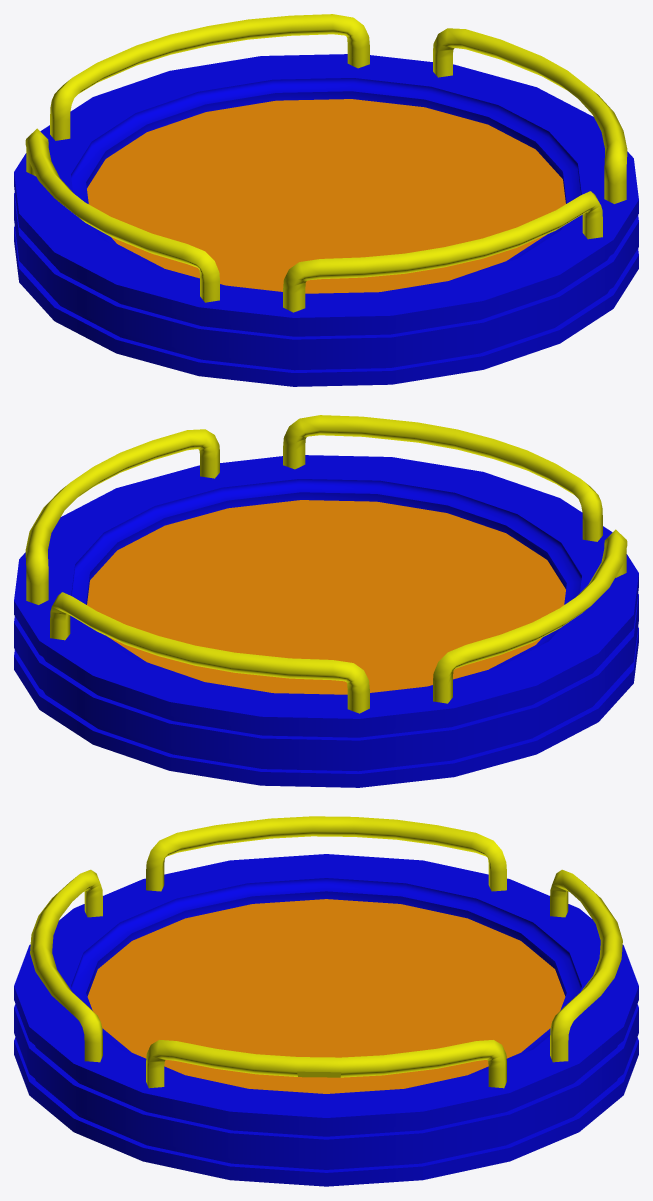
Rendered from Upgrade_LP_split.fbx.
3 views of the same model, one above another, from view 1: azimuth 30°, elevation 25°; view 2: azimuth 150°, elevation 25°; view 3: azimuth 270°, elevation 25° (orthographic).
Visible parts, largest first — view 1: WeaponBase_LP_split:base, WeaponBase_LP_split:vent, WeaponBase_LP_split:railing; view 2: WeaponBase_LP_split:base, WeaponBase_LP_split:vent, WeaponBase_LP_split:railing; view 3: WeaponBase_LP_split:base, WeaponBase_LP_split:vent, WeaponBase_LP_split:railing.
Boxes of the visible parts, bbox=[...] form: WeaponBase_LP_split:base: bbox=[14, 54, 638, 386]; WeaponBase_LP_split:vent: bbox=[87, 99, 565, 293]; WeaponBase_LP_split:railing: bbox=[25, 14, 627, 312]; WeaponBase_LP_split:base: bbox=[14, 455, 638, 787]; WeaponBase_LP_split:vent: bbox=[87, 500, 565, 694]; WeaponBase_LP_split:railing: bbox=[25, 415, 627, 713]; WeaponBase_LP_split:base: bbox=[14, 854, 638, 1186]; WeaponBase_LP_split:vent: bbox=[87, 899, 565, 1093]; WeaponBase_LP_split:railing: bbox=[30, 816, 622, 1088].
Size of the model in its own units: 241 by 50.14 by 241.
